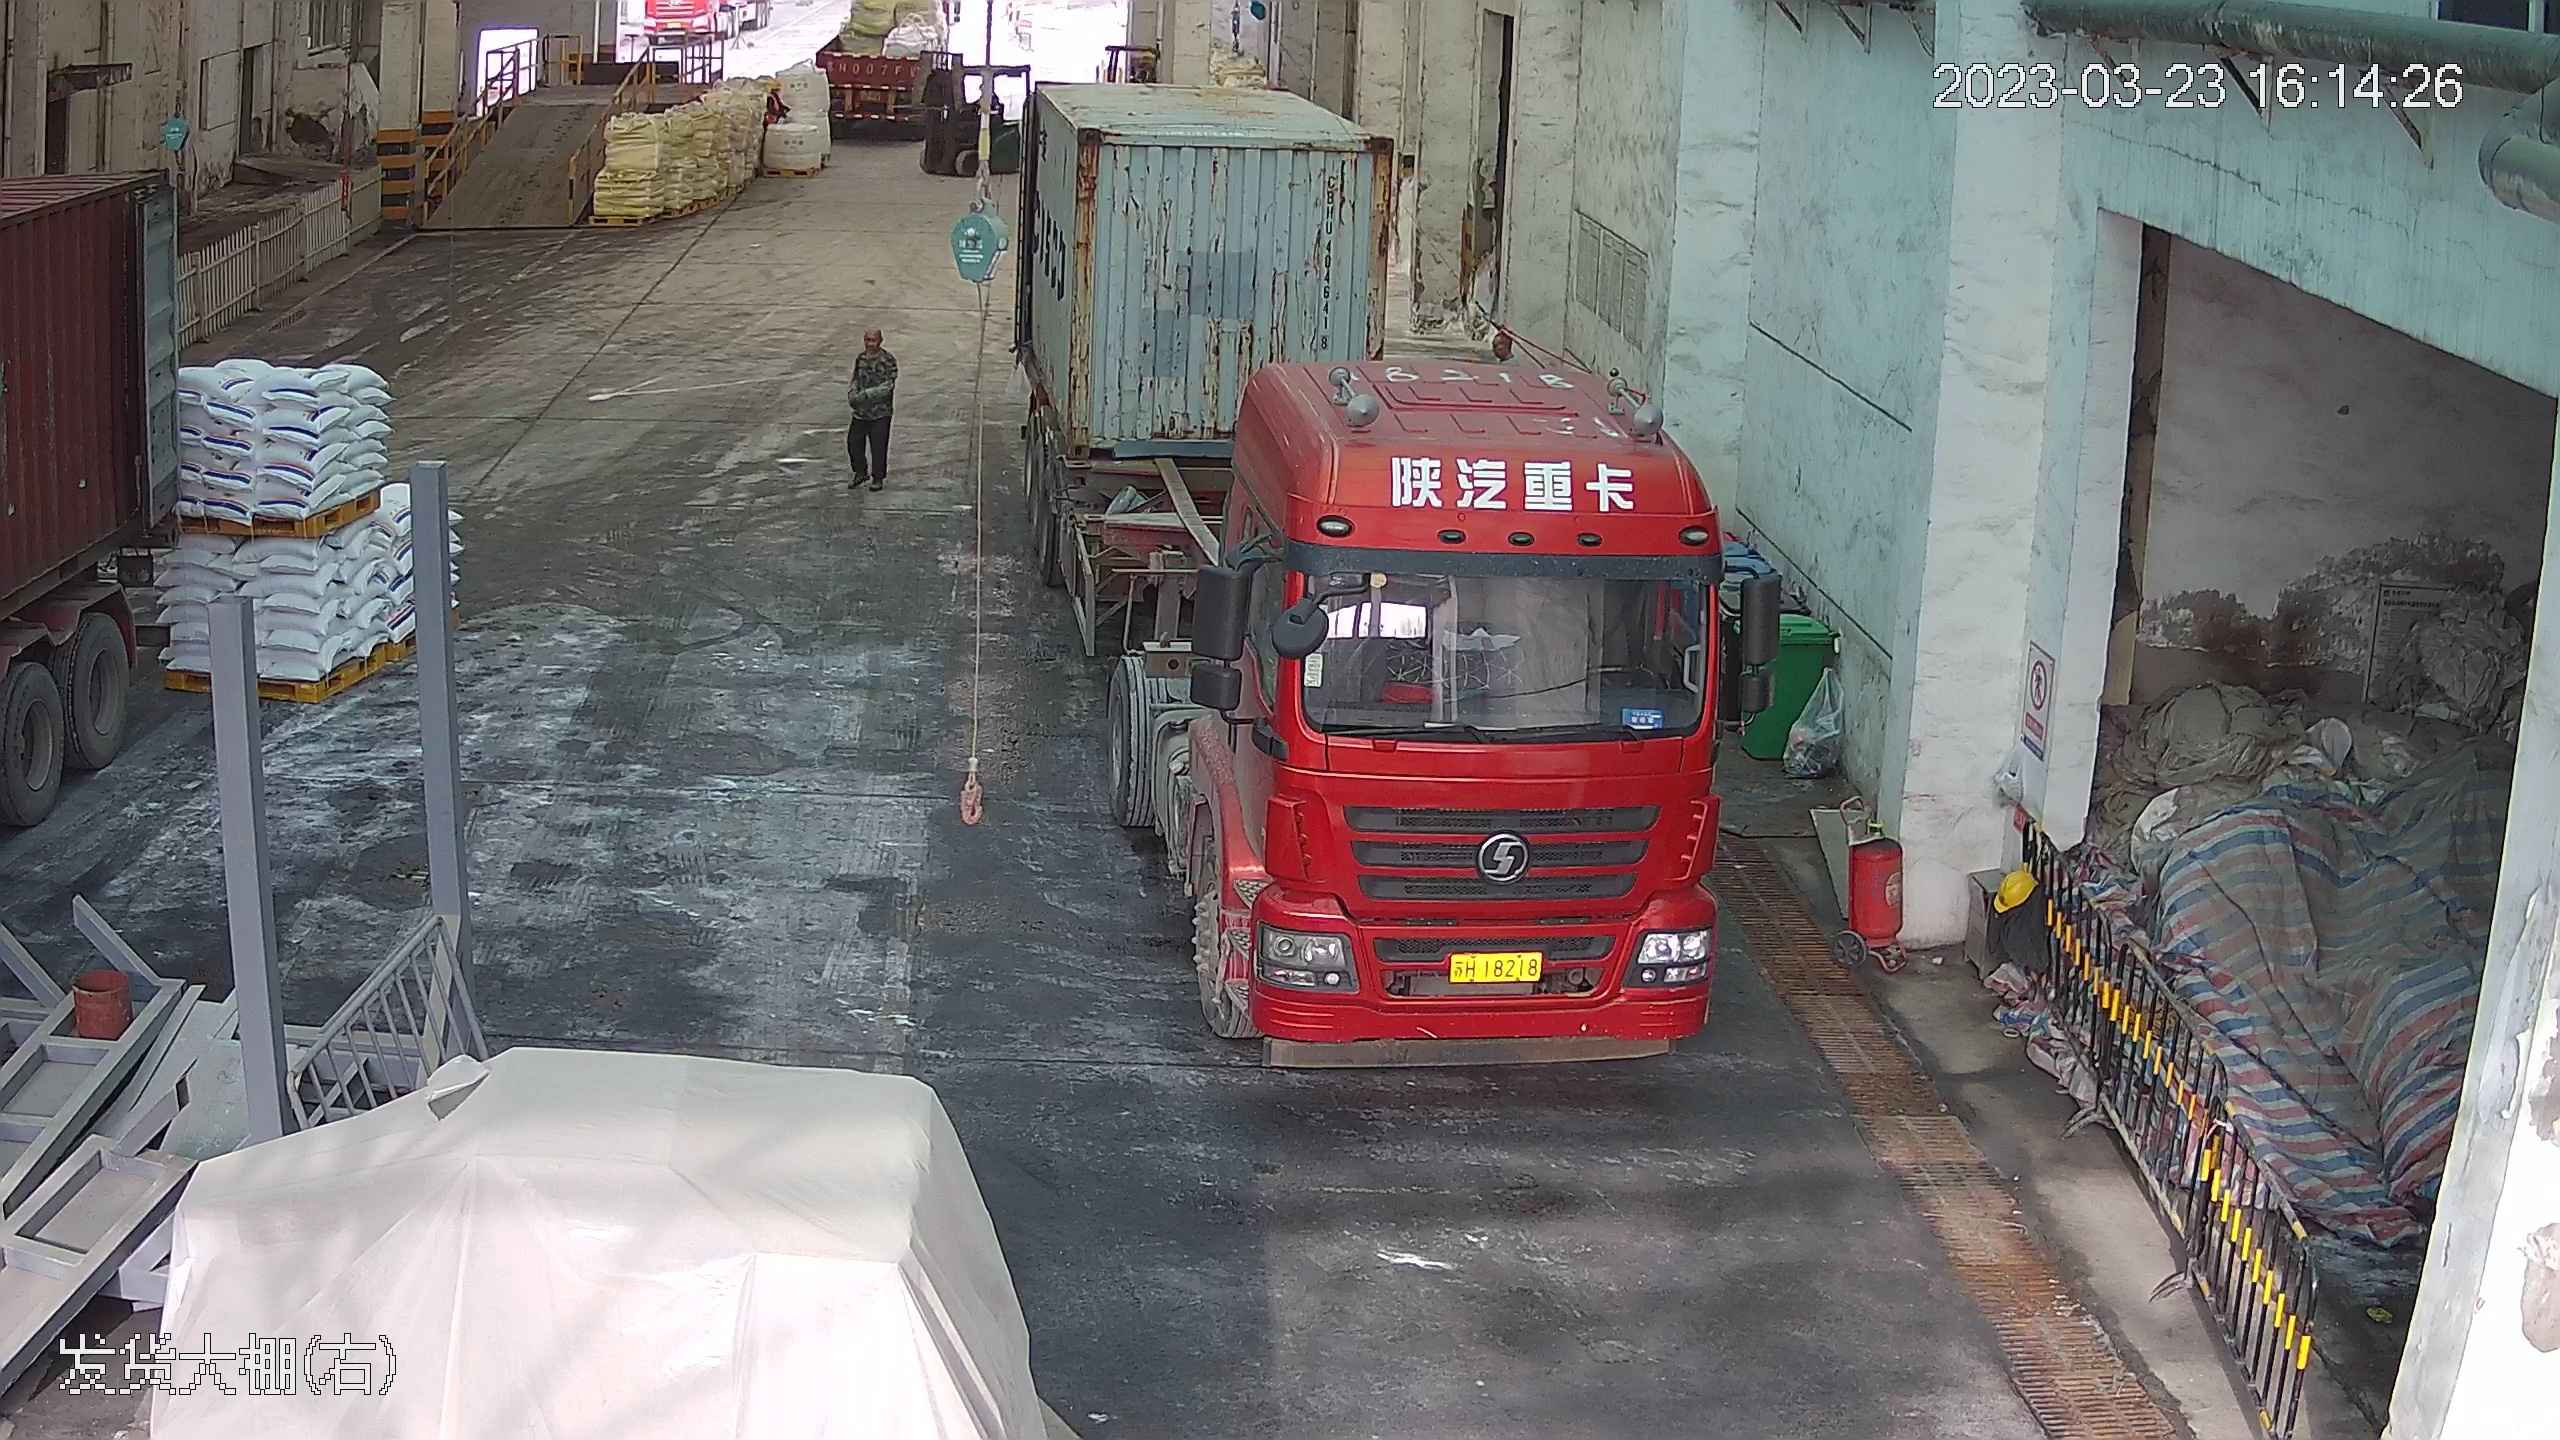head: (851, 321, 896, 376), (762, 74, 790, 102)
helmet: (1992, 861, 2038, 914), (864, 320, 885, 339)
people: (842, 318, 898, 490), (761, 69, 791, 144)
truck: (1006, 29, 1744, 1073), (0, 19, 197, 1039), (809, 0, 955, 148)
